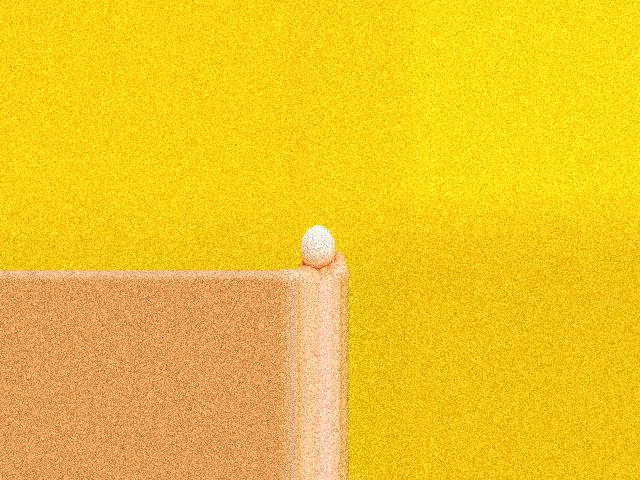egg: (302, 225, 335, 268)
